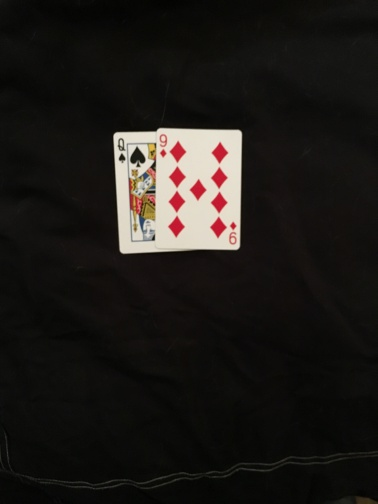nine: (154, 125, 243, 252)
queen: (112, 129, 157, 254)
